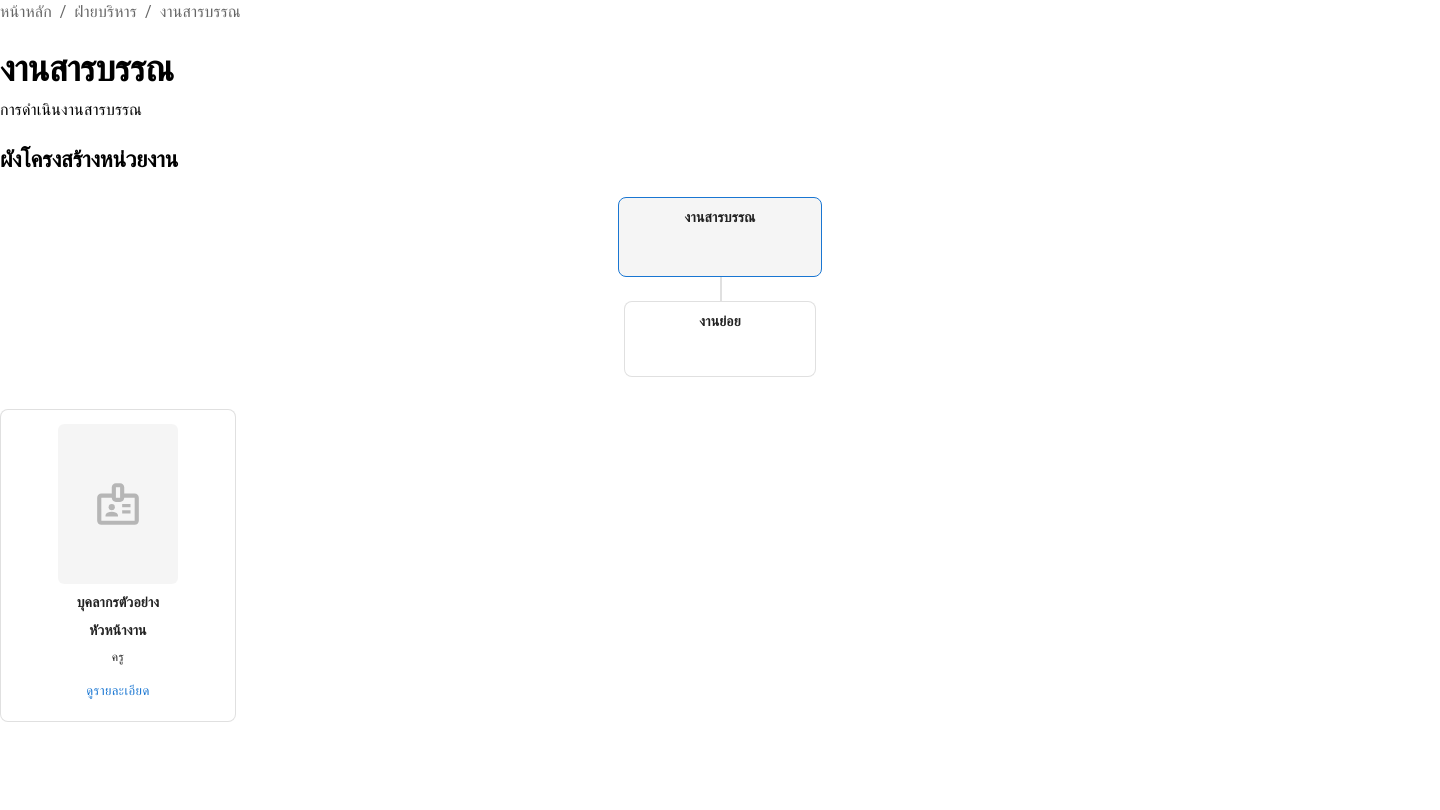
Test case: Phase 7 responsive public organization renderer › shows ancestor breadcrumbs, nested sections and published people without requiring Admin
The width and height of the screenshot is (1440, 810).
Expected: the heading "งานสารบรรณ" is shown, [0,48,173,90]
Expected: the navigation bar named "ลำดับหน่วยงาน" is shown, [0,2,241,21]
What coordinates should you click on to do the following:
click the button with aria-label "ดูรายละเอียด บุคลากรตัวอย่าง"
I would click on:
 (118, 691)
Its box is [81,676,155,707].
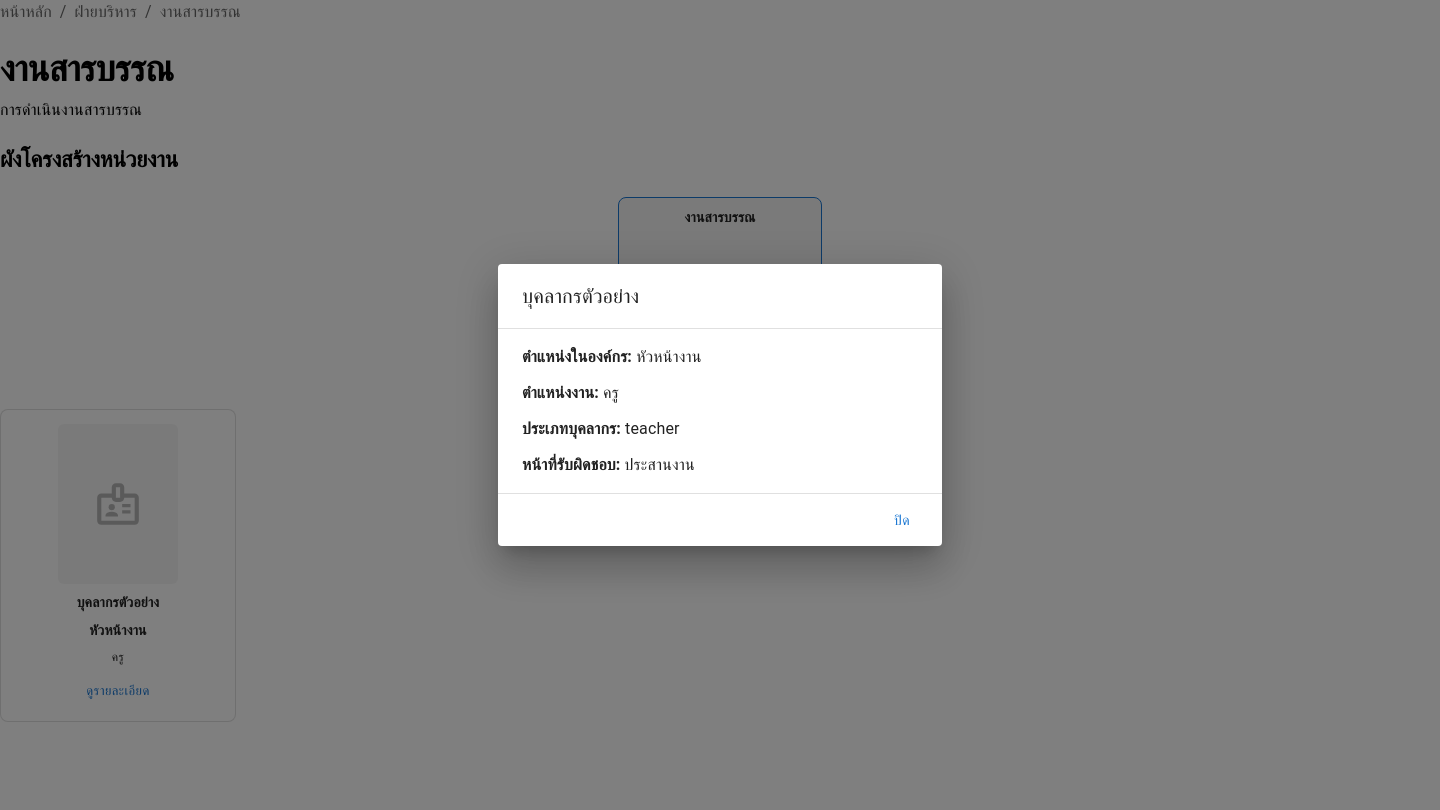
Expected: the text "ประสานงาน" is shown, [625,455,695,474]
